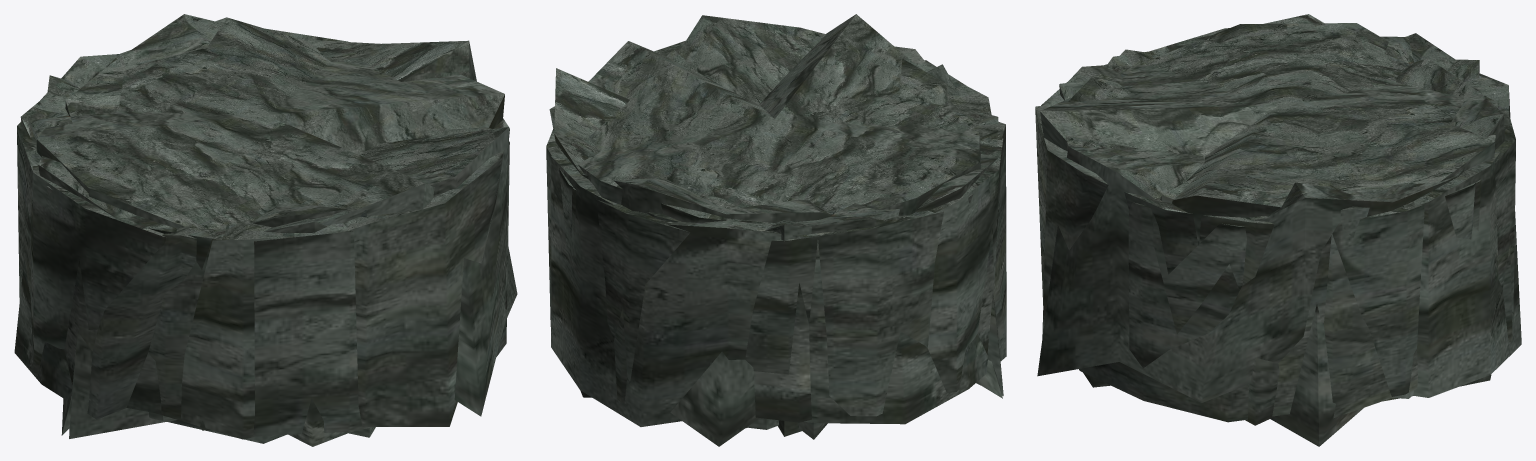
File: rocks_all3.glb
The picture shows the model from 3 angles, left to right: view 1: azimuth 30°, elevation 25°; view 2: azimuth 150°, elevation 25°; view 3: azimuth 270°, elevation 25°; orthographic projection. The views are drawn at different scales.
Visible parts, largest first — view 1: 10-512 (×2), 2-512 (×2), 3-512 (×2), 9-512 (×2), 1-512 (×2), 5-512 (×2), 11-512, 7-512, 6-512; view 2: 10-512 (×2), 2-512 (×2), 1-512 (×2), 9-512 (×2), 3-512 (×2), 5-512 (×2), 11-512 (×2), 7-512, 6-512; view 3: 10-512 (×2), 9-512 (×2), 2-512 (×2), 1-512 (×2), 3-512 (×2), 5-512, 11-512 (×2), 7-512, 6-512.
Part boxes in pixels (x1,y1,x2,y2): 10-512 (×2): (36,17,504,438); 2-512 (×2): (14,28,509,427); 3-512 (×2): (31,165,373,436); 9-512 (×2): (61,14,517,435); 1-512 (×2): (17,93,509,439); 5-512 (×2): (20,79,353,446); 11-512: (38,69,387,218); 7-512: (29,115,491,219); 6-512: (47,75,79,98); 10-512 (×2): (578,14,1003,439); 2-512 (×2): (551,40,1006,426); 1-512 (×2): (546,85,994,416); 9-512 (×2): (554,15,1002,446); 3-512 (×2): (572,60,1003,422); 5-512 (×2): (746,114,998,429); 11-512 (×2): (549,106,997,427); 7-512: (647,49,899,221); 6-512: (768,225,811,436); 10-512 (×2): (1040,23,1498,446); 9-512 (×2): (1037,58,1504,402); 2-512 (×2): (1035,49,1521,425); 1-512 (×2): (1067,65,1512,422); 3-512 (×2): (1041,28,1515,418); 5-512: (1107,33,1481,80); 11-512 (×2): (1194,14,1369,237); 7-512: (1162,36,1505,199); 6-512: (1446,59,1479,81).
Bounding box in the file's own units: 11.54 × 6.7 × 11.37.
Materials: 1 (1 with a texture image).
